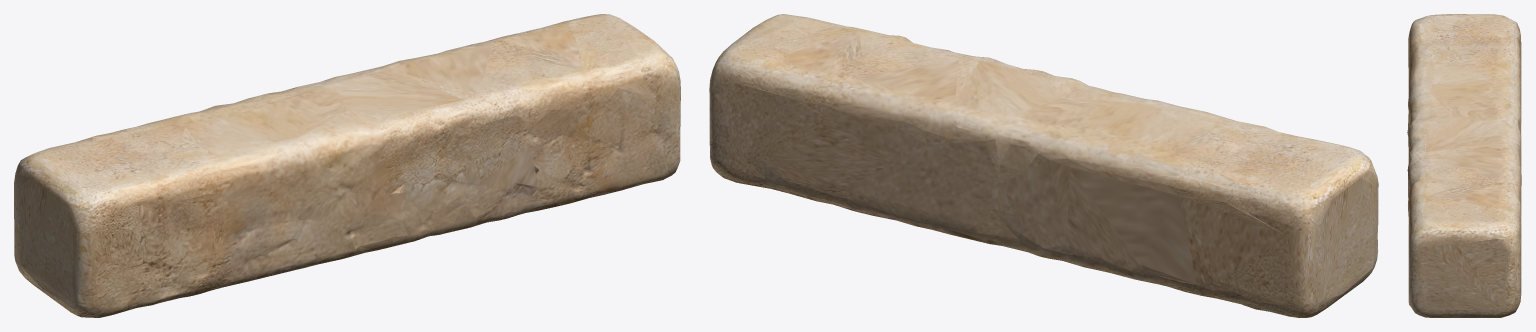
The model's file is edge.glb.
3 renders of one model, left to right at view 1: azimuth 30°, elevation 25°; view 2: azimuth 150°, elevation 25°; view 3: azimuth 270°, elevation 25°, orthographic. The views are drawn at different scales.
Visible parts, largest first — view 1: tripo_node_c7994f1d; view 2: tripo_node_c7994f1d; view 3: tripo_node_c7994f1d.
Part boxes in pixels (x1,y1,x2,y2): tripo_node_c7994f1d: [14, 14, 680, 317]; tripo_node_c7994f1d: [709, 14, 1378, 317]; tripo_node_c7994f1d: [1407, 14, 1521, 317].
Bounding box in the file's own units: 0.9999 × 0.2002 × 0.2204.
1 material, 1 textured.
